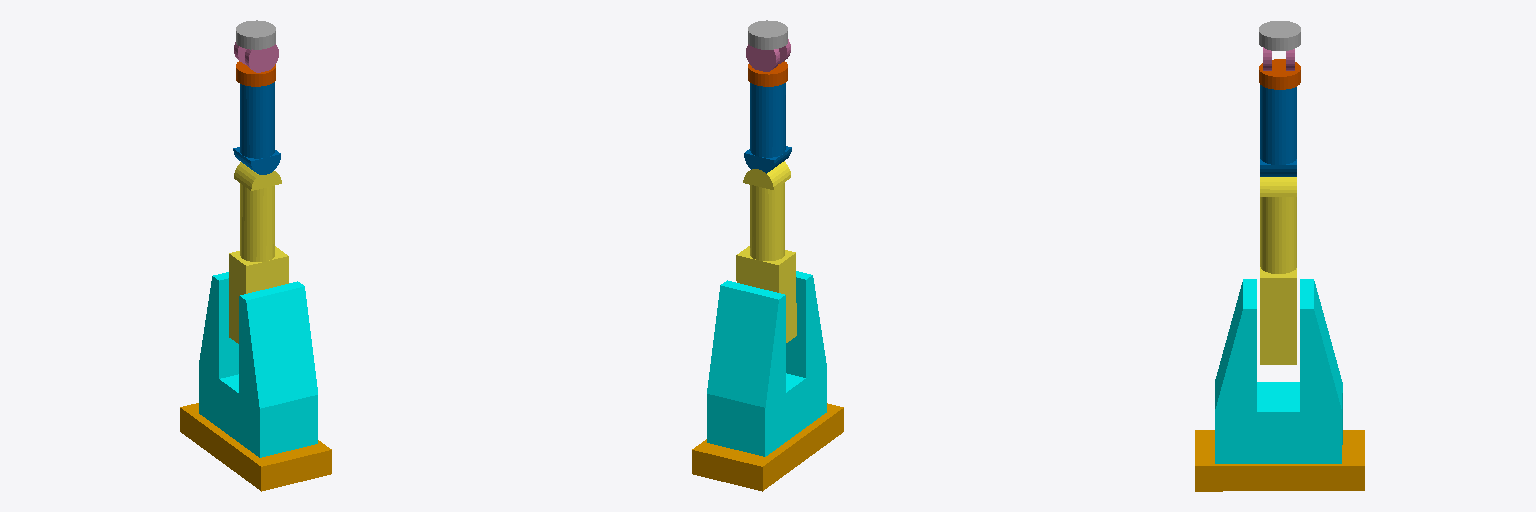
robot.urdf — zebra_zero:
<robot name="zebra_zero">
  <link name="base_link">
    <visual>
      <origin rpy="0 0 0" xyz="0 0 0"/>
      <geometry>
        <box size="0.3 0.1 0.6" />
      </geometry>
    </visual>
    <collision>
      <origin rpy="0 0 0" xyz="0 0 0"/>
      <geometry>
        <cylinder length="0.5" radius="0.05"/>
      </geometry>
    </collision>
    <inertial>
      <mass value="1"/>
      <inertia ixx="1.0" ixy="0.0" ixz="0.0" iyy="1.0" iyz="0.0" izz="1.0"/>
    </inertial>
  </link>
  <link name="world"/>
  <joint name="base_joint" type="fixed">
    <parent link="world"/>
    <child link="base_link"/>
    <origin rpy="-1.57 0 0" xyz="0 0 0"/>
    <axis xyz="0 0 1"/>
  </joint>
  <link name="first_link">
    <visual>
      <origin rpy="0 0 1.57" xyz="0.08 -0.1 -0.1"/>
      <geometry>
        <mesh filename="package://zebra_zero/urdf/ZebraBase.stl" scale="0.01 0.01 0.01"/>
        <!-- <box size="0.25 0.5 0.5"/> -->
      </geometry>
      <material name="blue">
        <color rgba="0 1.0 1.0 1.0"/>
      </material>
    </visual>
    <collision>
      <origin rpy="0 0 0" xyz="0 0 0"/>
      <geometry>
        <box size="0.35 0.7 0.7"/>
      </geometry>
    </collision>
    <inertial>
      <mass value="1"/>
      <inertia ixx="1.0" ixy="0.0" ixz="0.0" iyy="1.0" iyz="0.0" izz="1.0"/>
    </inertial>
  </link>
  <joint name="first_joint" type="revolute">
    <parent link="base_link"/>
    <child link="first_link"/>
    <origin rpy="1.57 0 0" xyz="0 0 0"/>
    <axis xyz="0 0 1"/>
    <!-- TODO: Fix this -->
    <limit effort="30" velocity="1.0" lower="-2.2" upper="0.7" />
  </joint>
  <link name="second_link">
    <visual>
      <origin rpy="-1.175 0 1.57" xyz="0.67 -0.1 0"/>
      <geometry>
        <mesh filename="package://zebra_zero/urdf/ZebraLinkOne.stl" scale="0.01 0.01 0.01"/>
        <!-- <cylinder length="0.35" radius="0.1"/> -->
      </geometry>
    </visual>
    <collision>
      <origin rpy="0 0 0" xyz="0 0 0"/>
      <geometry>
        <cylinder length="0.35" radius="0.05"/>
      </geometry>
    </collision>
    <inertial>
      <mass value="1"/>
      <inertia ixx="1.0" ixy="0.0" ixz="0.0" iyy="1.0" iyz="0.0" izz="1.0"/>
    </inertial>
  </link>
  <joint name="second_joint" type="revolute">
    <parent link="first_link"/>
    <child link="second_link"/>
    <origin rpy="0 0 0" xyz="0 0 0.45"/>
    <axis xyz="0 1 0"/>
    <!-- TODO: Fix this -->
    <limit effort="30" velocity="1.0" lower="-2.2" upper="0.7" />
  </joint>
  <link name="third_link">
    <visual>
      <origin rpy="3.14 0 1.57" xyz="0.42 -0.1 0.92"/>
      <geometry>
        <mesh filename="package://zebra_zero/urdf/ZebraLinkTwo.stl" scale="0.01 0.01 0.01"/>
        <!-- <cylinder length="0.35" radius="0.1"/> -->
      </geometry>
    </visual>
    <collision>
      <origin rpy="0 0 0" xyz="0 0 0.25"/>
      <geometry>
        <mesh filename="ZebraLinkTwo.stl" scale="0.01 0.01 0.01"/>
        <!-- <cylinder length="0.35" radius="0.05"/> -->
      </geometry>
    </collision>
    <inertial>
      <mass value="1"/>
      <inertia ixx="1.0" ixy="0.0" ixz="0.0" iyy="1.0" iyz="0.0" izz="1.0"/>
    </inertial>
  </link>
  <joint name="third_joint" type="revolute">
    <parent link="second_link"/>
    <child link="third_link"/>
    <origin rpy="0 0 0" xyz="0 0 0.60"/>
    <axis xyz="0 1 0"/>
    <!-- TODO: Fix this -->
    <limit effort="30" velocity="1.0" lower="-2.2" upper="0.7" />
  </joint>
  <link name="fourth_link">
    <visual>
      <origin rpy="0 0 0" xyz="0 0 0"/>
      <geometry>
        <cylinder length="0.05" radius="0.075"/>
      </geometry>
    </visual>
    <collision>
      <origin rpy="0 0 0" xyz="0 0 0"/>
      <geometry>
        <cylinder length="0.5" radius="0.05"/>
      </geometry>
    </collision>
    <inertial>
      <mass value="1"/>
      <inertia ixx="1.0" ixy="0.0" ixz="0.0" iyy="1.0" iyz="0.0" izz="1.0"/>
    </inertial>
  </link>
  <joint name="fourth_joint" type="revolute">
    <parent link="third_link"/>
    <child link="fourth_link"/>
    <origin rpy="0 0 0" xyz="0 0 0.45"/>
    <axis xyz="0 0 1"/>
    <!-- TODO: Fix this -->
    <limit effort="30" velocity="1.0" lower="-2.2" upper="0.7" />
  </joint>
  <link name="fifth_link">
    <visual>
      <origin rpy="0 0 0" xyz="-0.095 0.415 -0.4"/>
      <geometry>
        <mesh filename="package://zebra_zero/urdf/ZebraLinkThree.stl" scale="0.01 0.01 0.01"/>
        <!-- <cylinder length="0.15" radius="0.1"/> -->
      </geometry>
    </visual>
    <collision>
      <origin rpy="0 0 0" xyz="0 0 0"/>
      <geometry>
        <cylinder length="0.5" radius="0.05"/>
      </geometry>
    </collision>
    <inertial>
      <mass value="1"/>
      <inertia ixx="1.0" ixy="0.0" ixz="0.0" iyy="1.0" iyz="0.0" izz="1.0"/>
    </inertial>
  </link>
  <joint name="fifth_joint" type="revolute">
    <parent link="fourth_link"/>
    <child link="fifth_link"/>
    <origin rpy="0 0 0" xyz="0 0 0.05"/>
    <axis xyz="0 1 0"/>
    <!-- TODO: Fix this -->
    <limit effort="30" velocity="1.0" lower="-2.2" upper="2.2" />
  </joint>
  <link name="sixth_link">
    <visual>
      <origin rpy="0 0 0" xyz="0 0 0"/>
      <geometry>
        <cylinder length="0.05" radius="0.075"/>
      </geometry>
    </visual>
    <collision>
      <origin rpy="0 0 0" xyz="0 0 0"/>
      <geometry>
        <cylinder length="0.1" radius="0.05"/>
      </geometry>
    </collision>
    <inertial>
      <mass value="1"/>
      <inertia ixx="1.0" ixy="0.0" ixz="0.0" iyy="1.0" iyz="0.0" izz="1.0"/>
    </inertial>
  </link>
  <joint name="sixth_joint" type="revolute">
    <parent link="fifth_link"/>
    <child link="sixth_link"/>
    <origin rpy="0 0 0" xyz="0 0 0.1"/>
    <axis xyz="0 0 1"/>
    <!-- TODO: Fix this -->
    <limit effort="30" velocity="1.0" lower="-2.2" upper="0.7" />
  </joint>

  <ros2_control name="zebra_zero" type="system">
    <hardware>
      <plugin>zebra_zero/RobotSystem</plugin>
    </hardware>
    <joint name="first_joint">
      <command_interface name="position">
        <param name="min">{-pi}</param>
        <param name="max">{pi}</param>
      </command_interface>
      <command_interface name="velocity">
        <param name="min">-1</param>
        <param name="max">1</param>
      </command_interface>
      <state_interface name="position">
        <param name="initial_value">0.0</param>
      </state_interface>
      <state_interface name="velocity">
        <param name="initial_value">0.0</param>
      </state_interface>
    </joint>
    <joint name="second_joint">
      <command_interface name="position">
        <param name="min">{-pi/2 + 0.5}</param>
        <param name="max">0.5</param>
      </command_interface>
      <command_interface name="velocity">
        <param name="min">-1</param>
        <param name="max">1</param>
      </command_interface>
      <state_interface name="position">
        <param name="initial_value">{-pi/2}</param>
      </state_interface>
      <state_interface name="velocity">
        <param name="initial_value">0.0</param>
      </state_interface>
    </joint>
      <joint name="third_joint">
      <command_interface name="position">
        <param name="min">{-pi/2 + 0.5}</param>
        <param name="max">{pi/2}</param>
      </command_interface>
      <command_interface name="velocity">
        <param name="min">-1</param>
        <param name="max">1</param>
      </command_interface>
      <state_interface name="position">
        <param name="initial_value">{-pi/2}</param>
      </state_interface>
      <state_interface name="velocity">
        <param name="initial_value">0.0</param>
      </state_interface>
    </joint>
    <joint name="fourth_joint">
      <command_interface name="position">
        <param name="min">{-pi}</param>
        <param name="max">{pi}</param>
      </command_interface>
      <command_interface name="velocity">
        <param name="min">-1</param>
        <param name="max">1</param>
      </command_interface>
      <state_interface name="position">
        <param name="initial_value">0.0</param>
      </state_interface>
      <state_interface name="velocity">
        <param name="initial_value">0.0</param>
      </state_interface>
    </joint>
    <joint name="fifth_joint">
      <command_interface name="position">
        <param name="min">{-pi}</param>
        <param name="max">{pi}</param>
      </command_interface>
      <command_interface name="velocity">
        <param name="min">-1</param>
        <param name="max">1</param>
      </command_interface>
      <state_interface name="position">
        <param name="initial_value">{pi/2}</param>
      </state_interface>
      <state_interface name="velocity">
        <param name="initial_value">0.0</param>
      </state_interface>
    </joint>
    <joint name="sixth_joint">
      <command_interface name="position">
        <param name="min">{-pi}</param>
        <param name="max">{pi}</param>
      </command_interface>
      <command_interface name="velocity">
        <param name="min">-1</param>
        <param name="max">1</param>
      </command_interface>
      <state_interface name="position">
        <param name="initial_value">0.0</param>
      </state_interface>
      <state_interface name="velocity">
        <param name="initial_value">0.0</param>
      </state_interface>
    </joint>
    <!-- additional joints ...-->
    <!-- additional hardware/sensors ...-->
  </ros2_control>
</robot>

--- Render facts (derived) ---
The picture shows the robot from 3 angles, left to right: view 1: azimuth 30°, elevation 25°; view 2: azimuth 150°, elevation 25°; view 3: azimuth 270°, elevation 25°; orthographic projection.
Model zebra_zero with 8 links and 7 joints (6 revolute, 1 fixed), rooted at world, posed all joints at 0.
Visible links, largest first — view 1: first_link, second_link, base_link, third_link, sixth_link, fifth_link, fourth_link; view 2: first_link, second_link, base_link, third_link, sixth_link, fifth_link, fourth_link; view 3: first_link, second_link, base_link, third_link, sixth_link, fourth_link.
Link boxes in pixels (x1,y1,x2,y2): first_link: [199, 272, 317, 457]; second_link: [229, 162, 288, 343]; base_link: [180, 403, 331, 491]; third_link: [233, 82, 280, 174]; sixth_link: [236, 20, 275, 49]; fifth_link: [234, 42, 278, 72]; fourth_link: [236, 61, 275, 86]; first_link: [707, 271, 826, 456]; second_link: [736, 161, 796, 342]; base_link: [692, 403, 843, 491]; third_link: [744, 83, 791, 173]; sixth_link: [748, 20, 787, 49]; fifth_link: [746, 39, 790, 71]; fourth_link: [748, 61, 787, 86]; first_link: [1215, 279, 1342, 463]; second_link: [1260, 177, 1296, 364]; base_link: [1195, 430, 1364, 491]; third_link: [1260, 85, 1296, 176]; sixth_link: [1259, 21, 1300, 50]; fourth_link: [1259, 59, 1300, 89].
Size in the robot's own frame: 0.3 by 0.6001 by 1.73 metres.
4 mesh visuals loaded from 4 distinct referenced files (4 binary STL).
